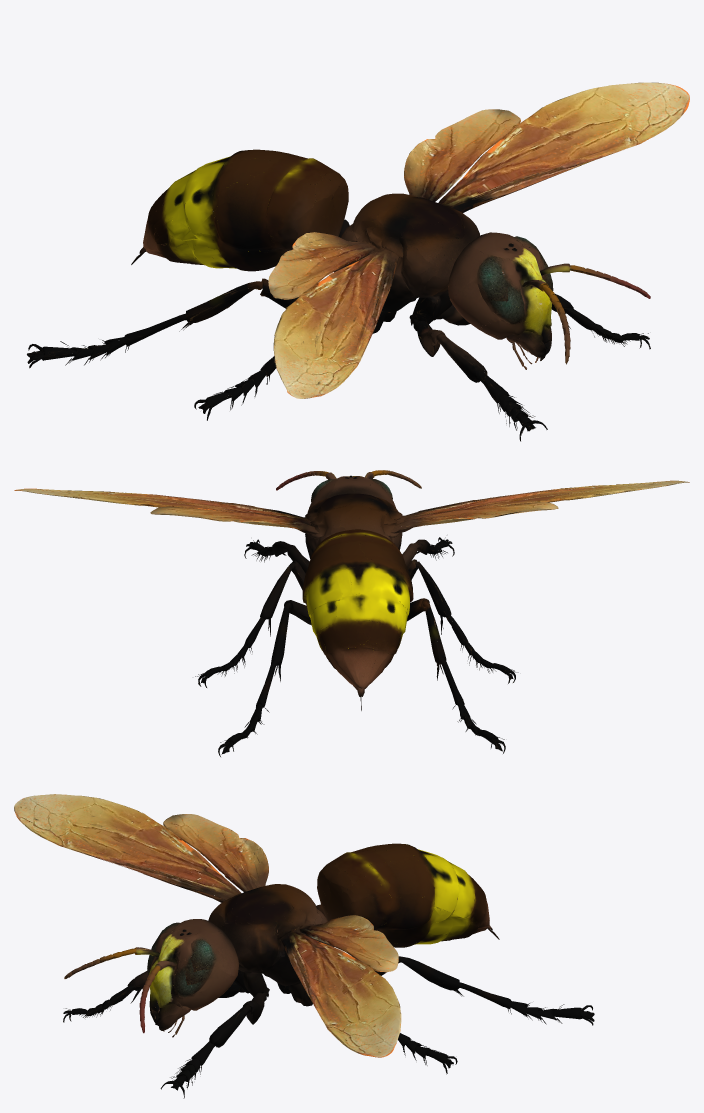
Rendered from wasp.glb.
3 views of the same model, one above another, from view 1: azimuth 30°, elevation 25°; view 2: azimuth 150°, elevation 25°; view 3: azimuth 270°, elevation 25° (orthographic). The views are drawn at different scales.
Parts seen in each view (by area): view 1: Body, Wing_L, Wing_Hind_L; view 2: Body; view 3: Body, Wing_L.
Part boxes in pixels (x1,y1,x2,y2): Body: (27,82,673,441); Wing_L: (579,82,685,151); Wing_Hind_L: (562,91,689,133); Body: (23,470,689,756); Body: (14,794,594,1098); Wing_L: (326,996,399,1055).
Size of the model in its own units: 1.33 by 0.375 by 1.45.
4 materials, 4 textured.
